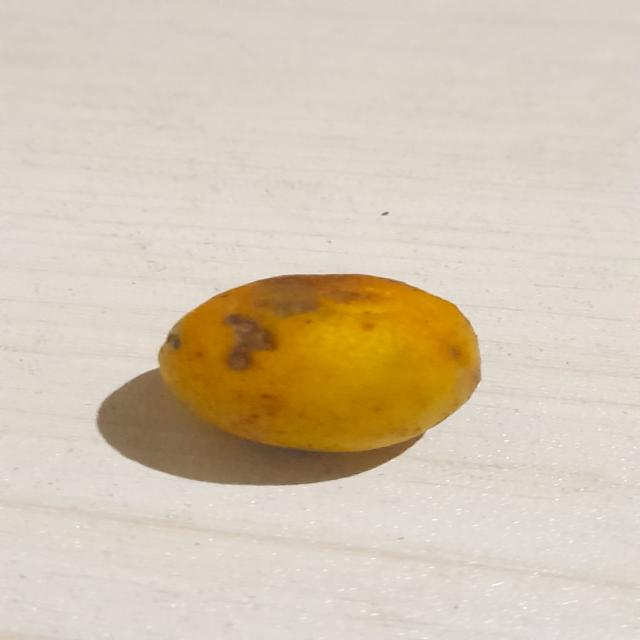black spot: (154, 268, 487, 454)
